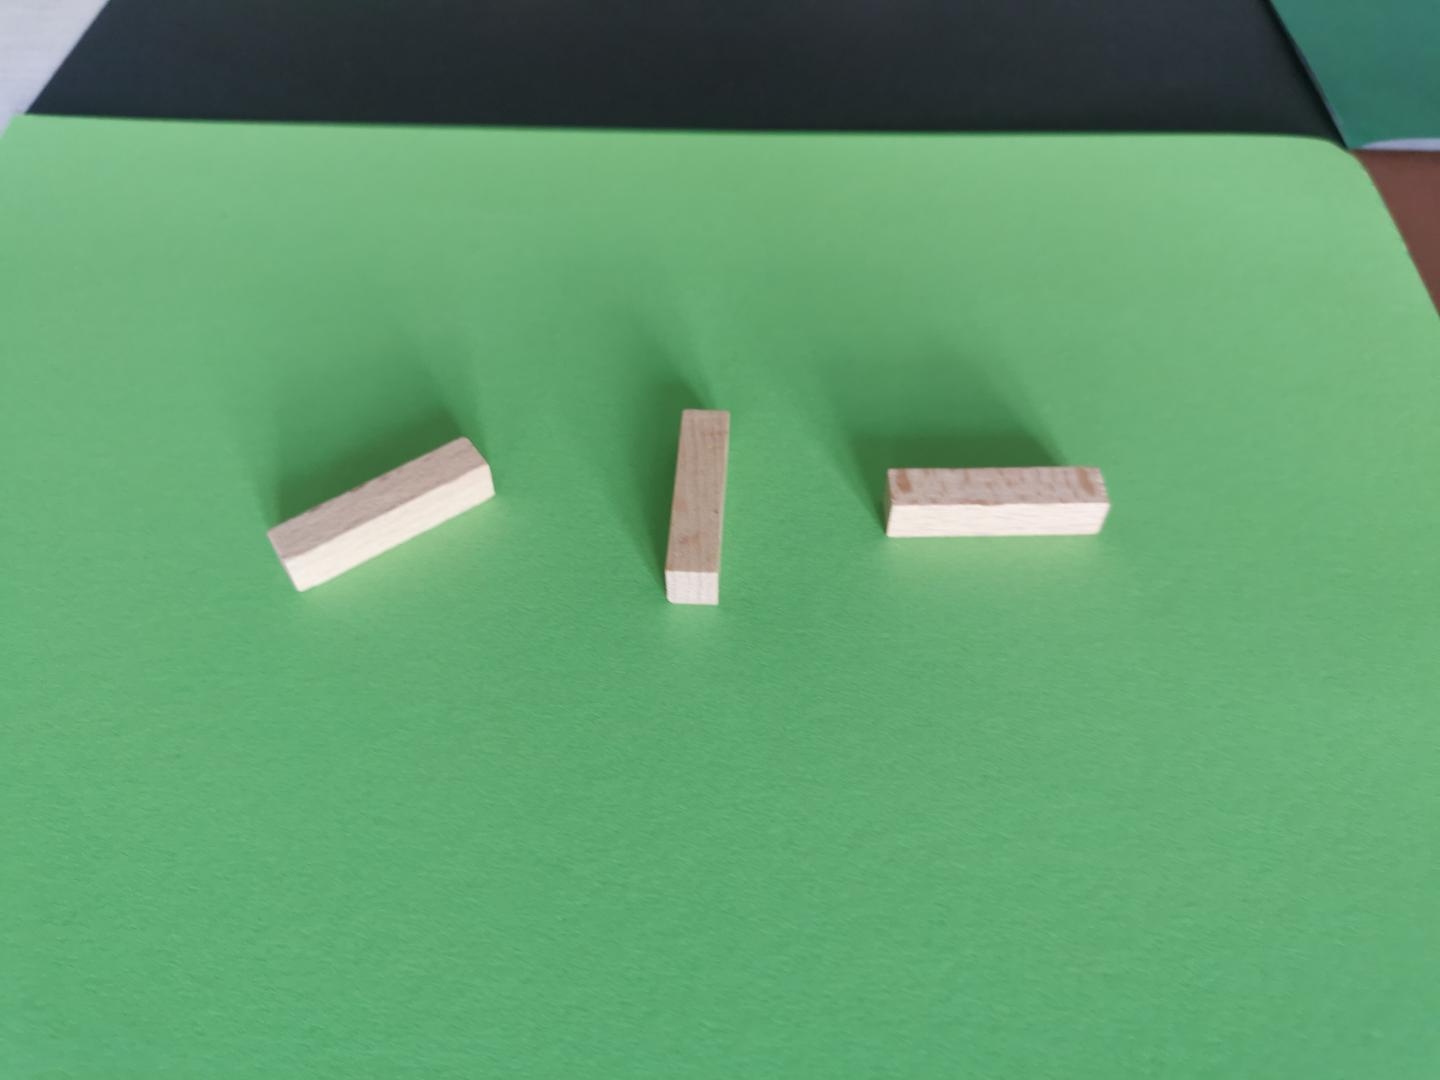jenga: (268, 436, 495, 591), (886, 467, 1111, 538), (667, 407, 728, 605)
